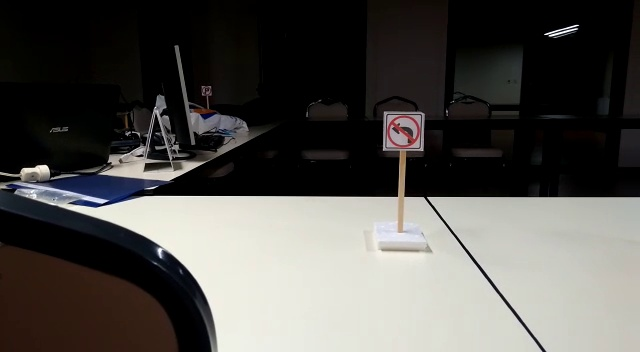sola_donulmez: (384, 110, 426, 150)
